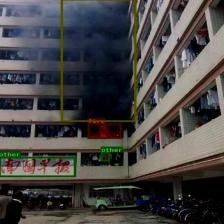fire: (87, 123, 121, 138)
smoke: (60, 0, 136, 121)
